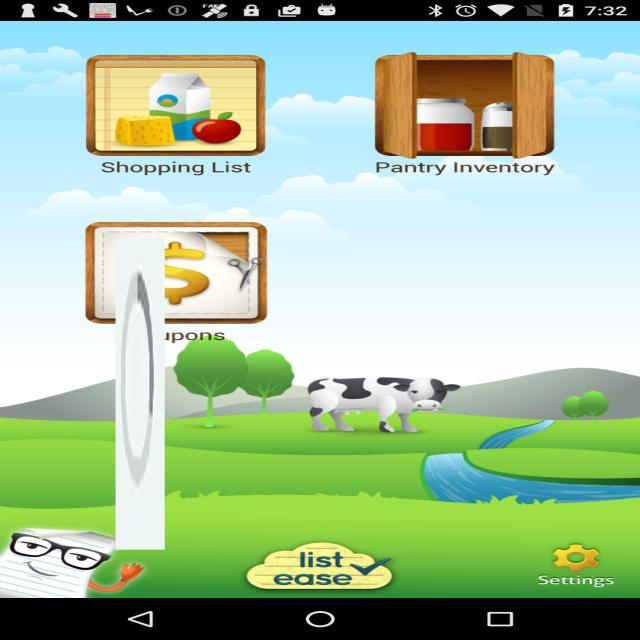misdirection: (116, 238, 164, 550)
